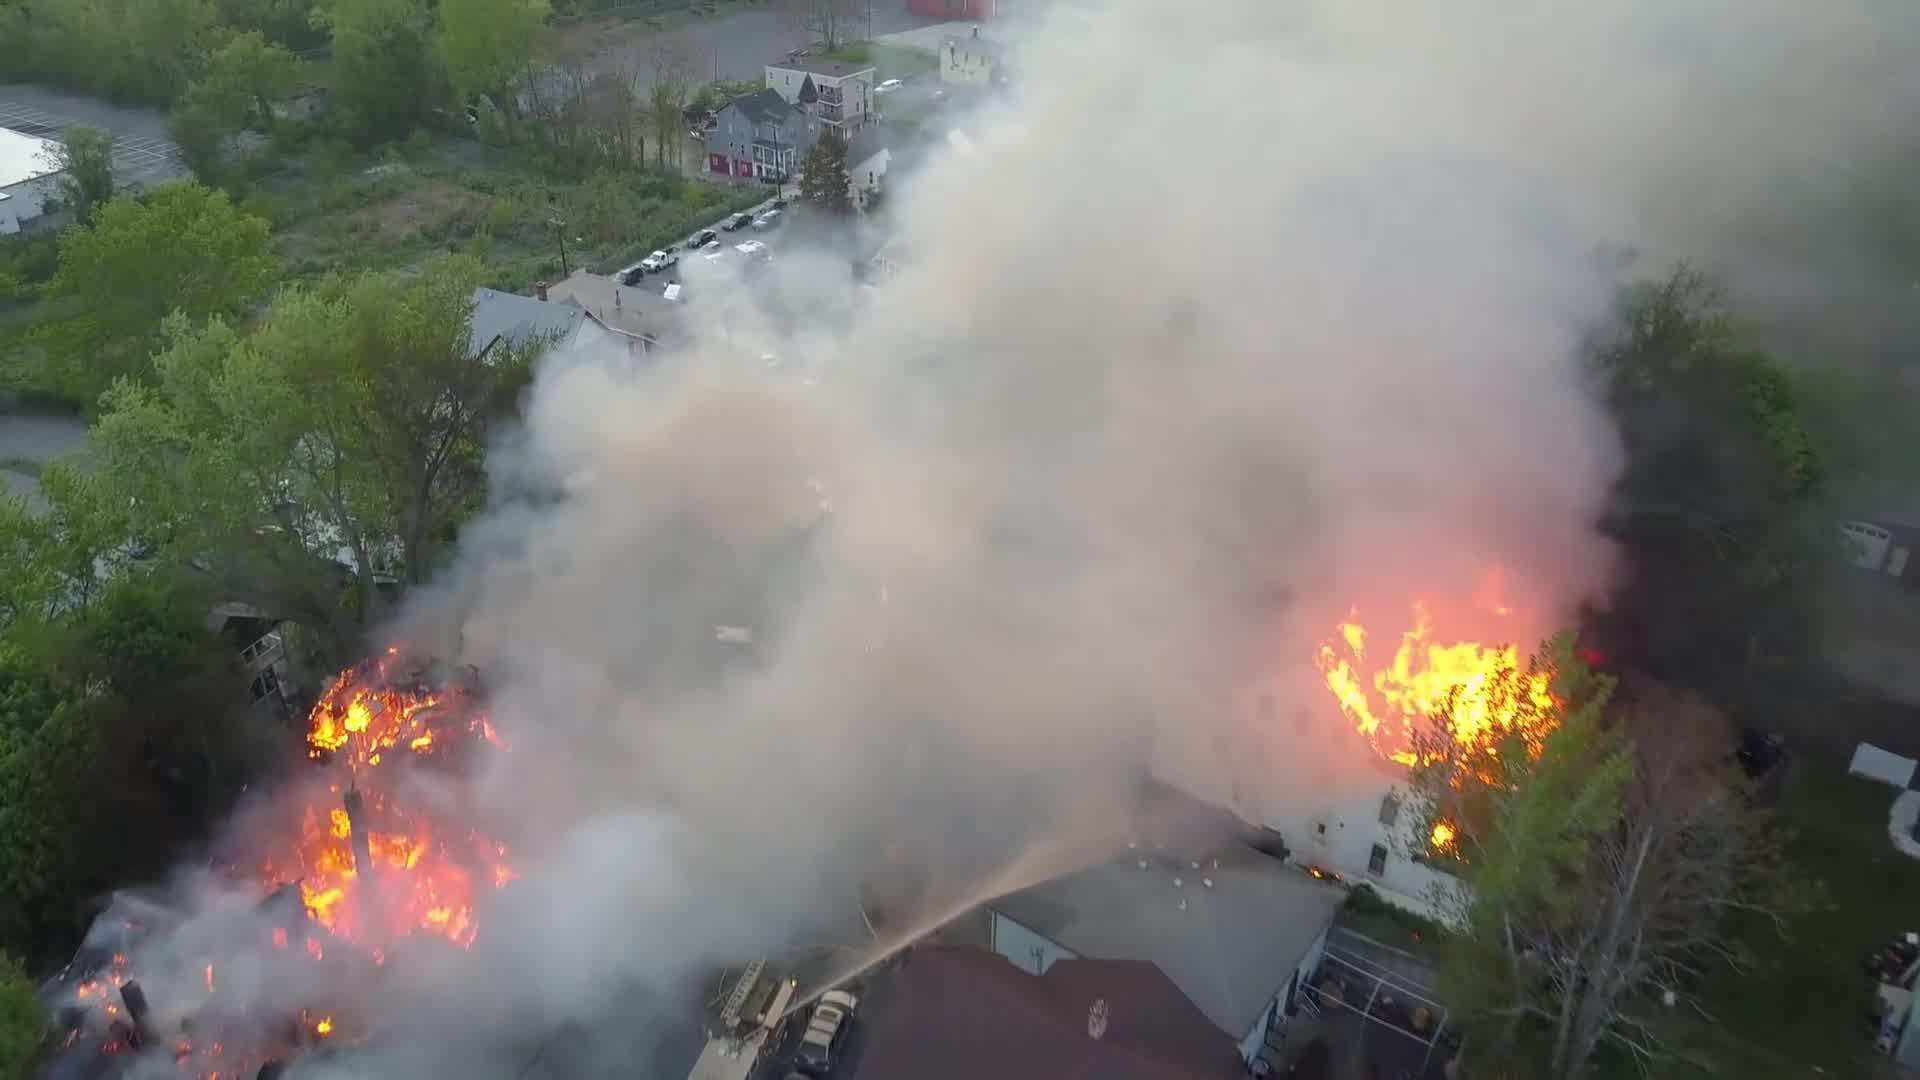fire: (321, 663, 446, 926), (1341, 627, 1563, 753)
smoke: (1016, 0, 1607, 601), (544, 411, 1004, 907), (1614, 4, 1909, 281)
